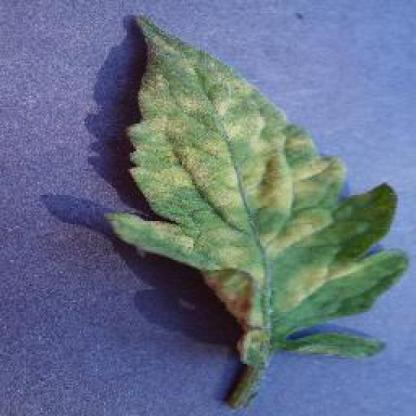Tomato_Leaf_Mold: (284, 258, 364, 302), (262, 214, 325, 255)
